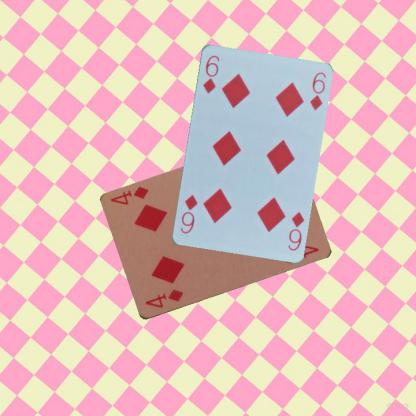4d: (142, 286, 184, 310)
6d: (200, 52, 221, 95), (286, 208, 306, 252)
